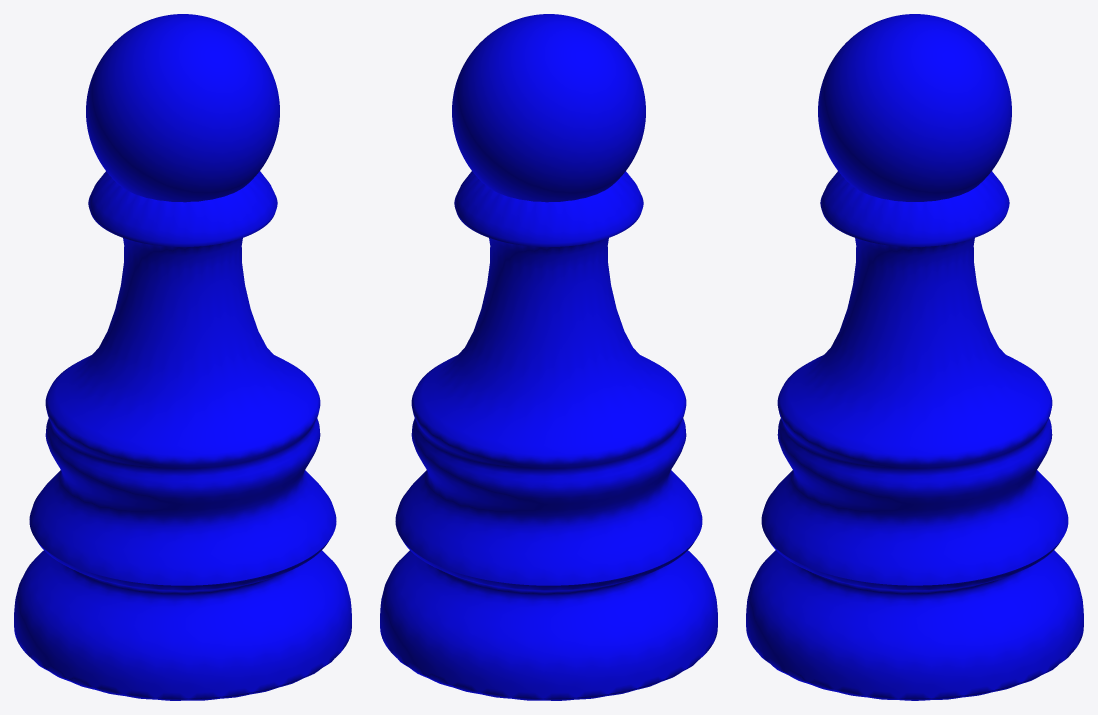
Rendered from blue_pawn.glb.
3 renders of one model, left to right at view 1: azimuth 30°, elevation 25°; view 2: azimuth 150°, elevation 25°; view 3: azimuth 270°, elevation 25°, orthographic.
Parts seen in each view (by area): view 1: Sketchfab Model; view 2: Sketchfab Model; view 3: Sketchfab Model.
Boxes of the visible parts, x1=… form: Sketchfab Model: x1=14, y1=14, x2=351, y2=700; Sketchfab Model: x1=380, y1=14, x2=717, y2=700; Sketchfab Model: x1=746, y1=14, x2=1083, y2=700.
Size of the model in its own units: 0.7867 by 1.58 by 0.7867.
